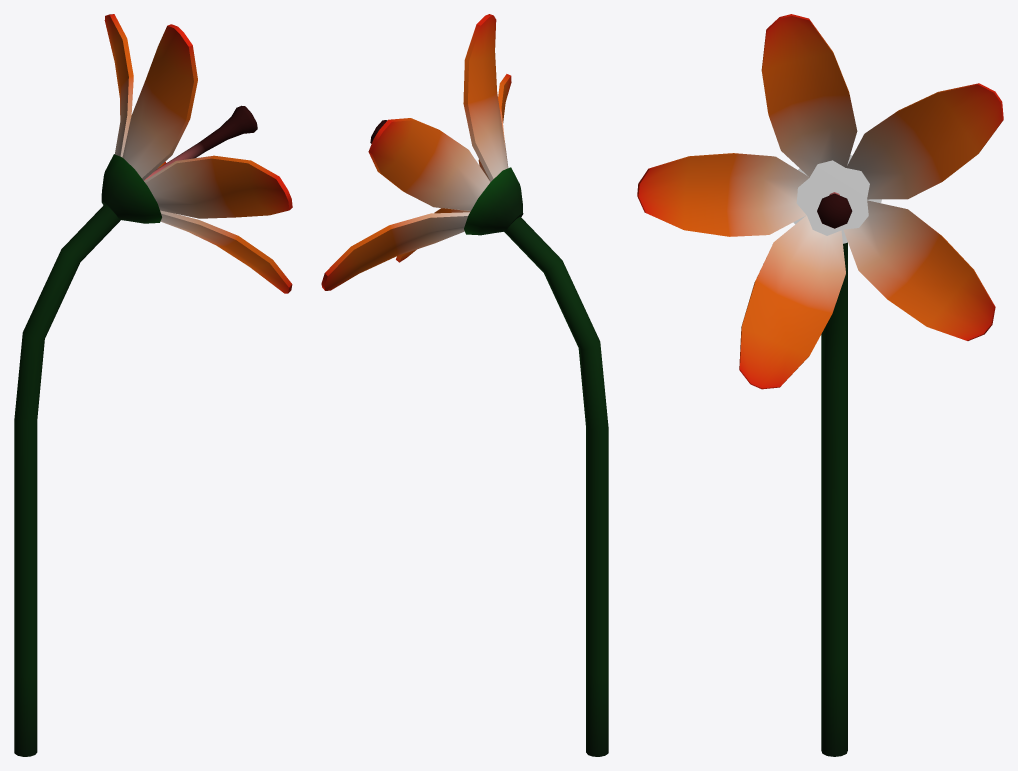
Rendered from flower_2.fbx.
3 renders of one model, left to right at view 1: azimuth 30°, elevation 25°; view 2: azimuth 150°, elevation 25°; view 3: azimuth 270°, elevation 25°, orthographic. The views are drawn at different scales.
Visible parts, largest first — view 1: Flower_2; view 2: Flower_2; view 3: Flower_2.
Boxes of the visible parts, <box> form: Flower_2: <box>14,14,292,756</box>; Flower_2: <box>321,14,608,756</box>; Flower_2: <box>637,14,1003,756</box>.
Size of the model in its own units: 23.66 by 66.5 by 27.27.
